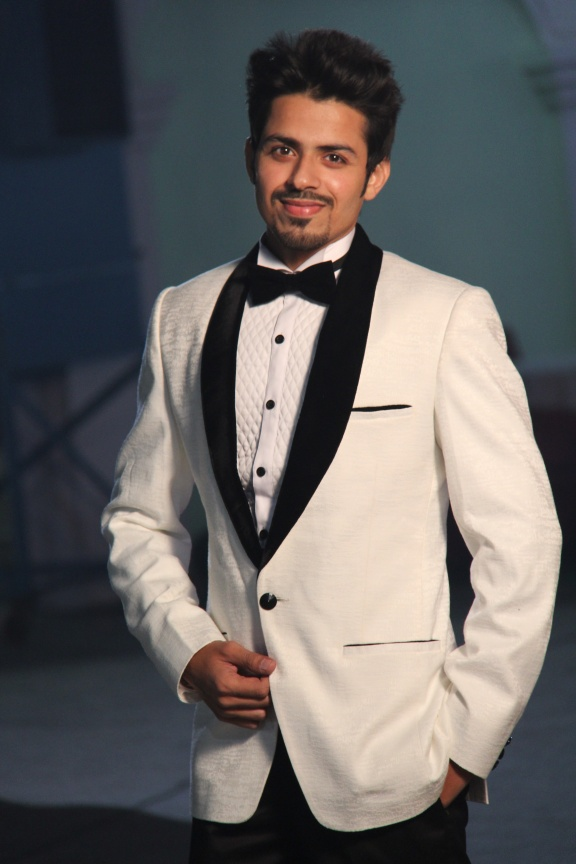Forehead: (254, 83, 370, 146)
